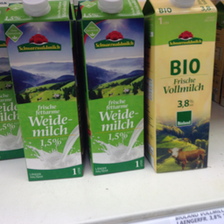milk: (3, 1, 91, 182), (144, 1, 222, 176), (80, 1, 152, 176)
